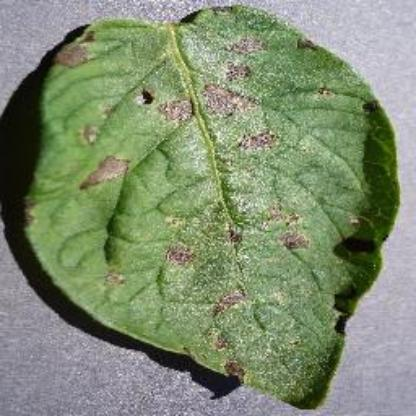Early-Blight: (20, 3, 400, 411)
